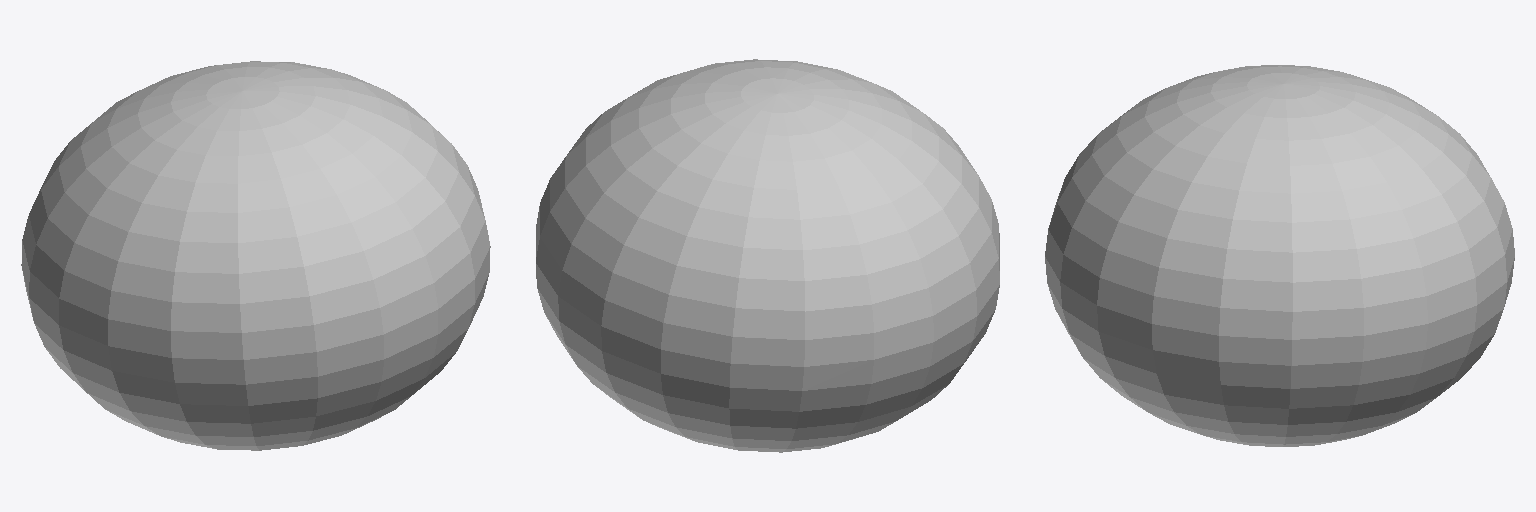
File: bead_big.obj
3 renders of one model, left to right at view 1: azimuth 30°, elevation 25°; view 2: azimuth 150°, elevation 25°; view 3: azimuth 270°, elevation 25°, orthographic.
Visible parts, largest first — view 1: polySurface541 polySurface462; view 2: polySurface541 polySurface462; view 3: polySurface541 polySurface462.
Boxes of the visible parts, box(x1,y1,x2,y2) form: polySurface541 polySurface462: box(21, 61, 490, 450); polySurface541 polySurface462: box(536, 59, 999, 452); polySurface541 polySurface462: box(1045, 65, 1514, 446).
Bounding box in the file's own units: 2.37 × 1.86 × 2.37.